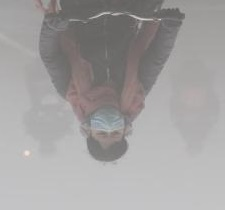person: (34, 3, 182, 162), (169, 61, 220, 155), (24, 70, 74, 154)
